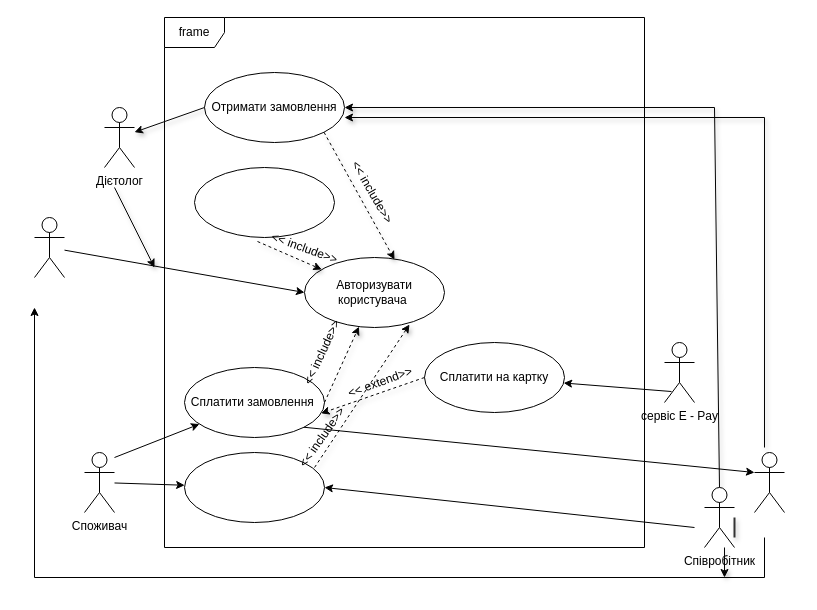
This 817x610 diagram has some shape labels left out. The centre of each missing label's shape, as x and y in pixels:
"Виконати замовлення" belongs at point (254, 487).
"Користувач" belongs at point (49, 247).
"Створити замовлення" belongs at point (264, 202).
"Хореограф" belongs at point (769, 482).
